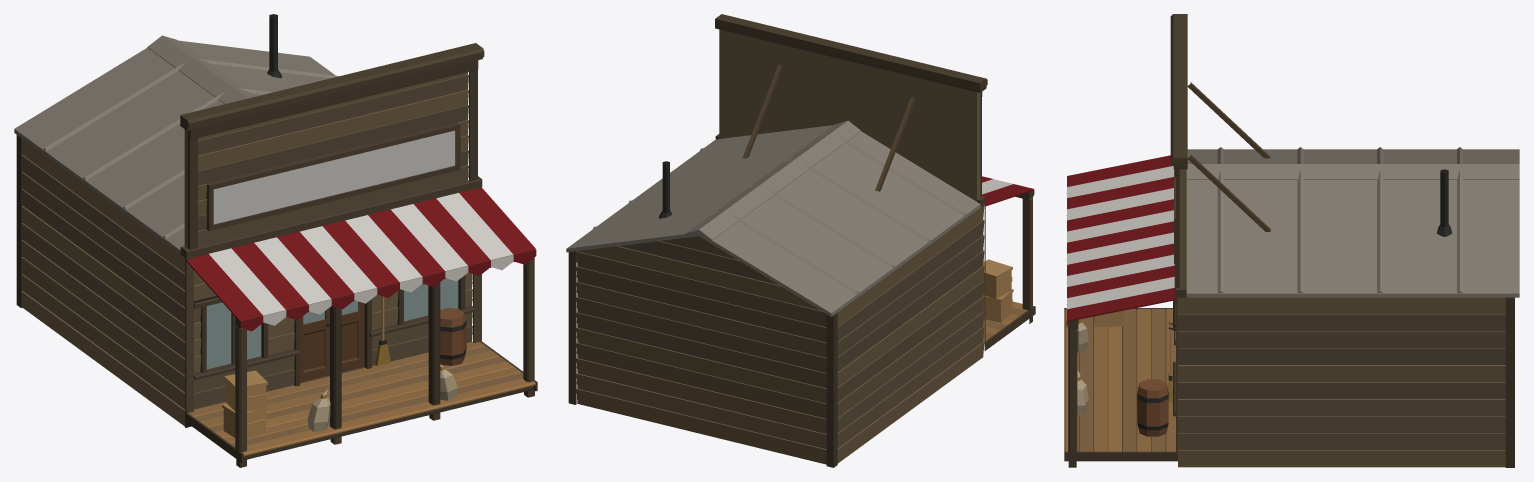
The model's file is shop.glb.
The picture shows the model from 3 angles, left to right: view 1: azimuth 30°, elevation 25°; view 2: azimuth 150°, elevation 25°; view 3: azimuth 270°, elevation 25°; orthographic projection. The views are drawn at different scales.
Parts seen in each view (by area): view 1: store-mesh, valance-mesh, door-l-mesh, crates-mesh, door-r-mesh, barrel-mesh; view 2: store-mesh, crates-mesh; view 3: store-mesh, barrel-mesh.
Boxes of the visible parts, x1,y1,x2,y2 form: store-mesh: [14, 14, 537, 467]; valance-mesh: [239, 249, 536, 331]; door-l-mesh: [300, 307, 329, 382]; crates-mesh: [222, 370, 267, 438]; door-r-mesh: [341, 300, 364, 371]; barrel-mesh: [440, 307, 466, 365]; store-mesh: [566, 14, 1035, 467]; crates-mesh: [983, 259, 1013, 322]; store-mesh: [1064, 14, 1519, 467]; barrel-mesh: [1137, 379, 1168, 436].
Bounding box in the file's own units: 6 × 6 × 8.
